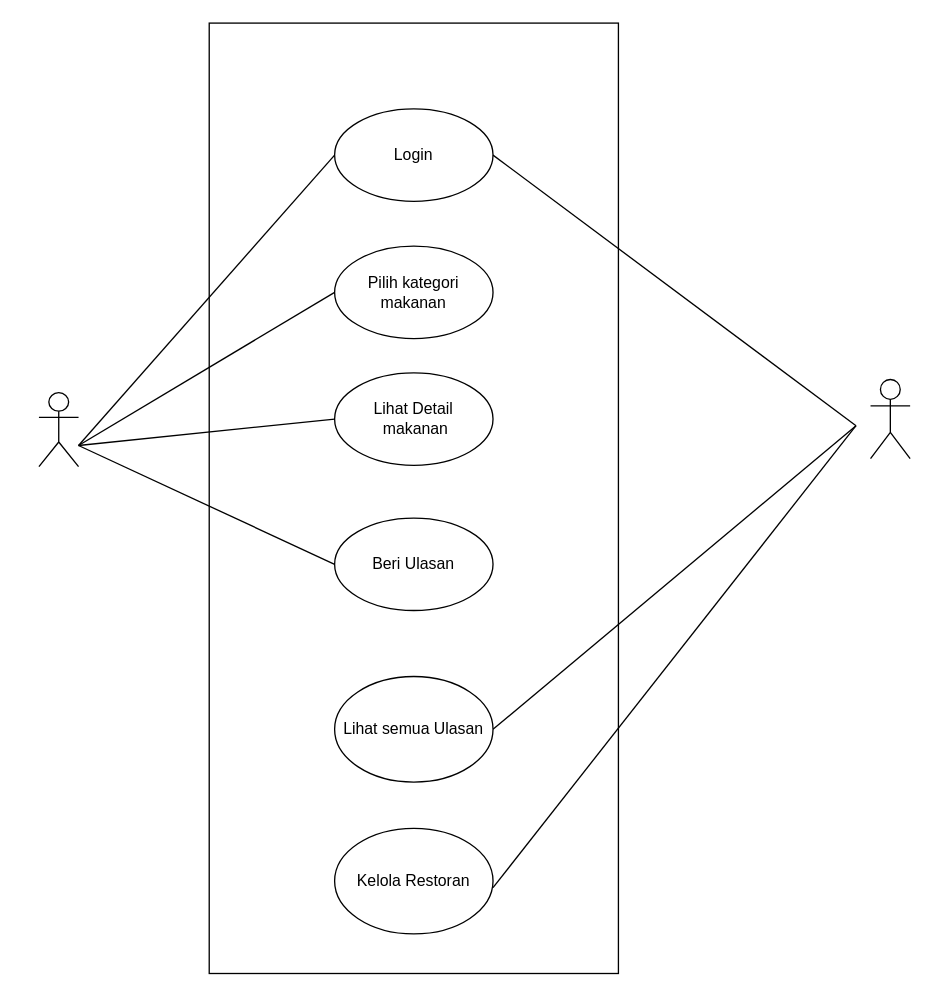
This 936x997 diagram has some shape labels left out. Each missing label, with the centre of its shape:
"Admin" belongs at pixel 889 418.
"Pengguna" belongs at pixel 58 429.
